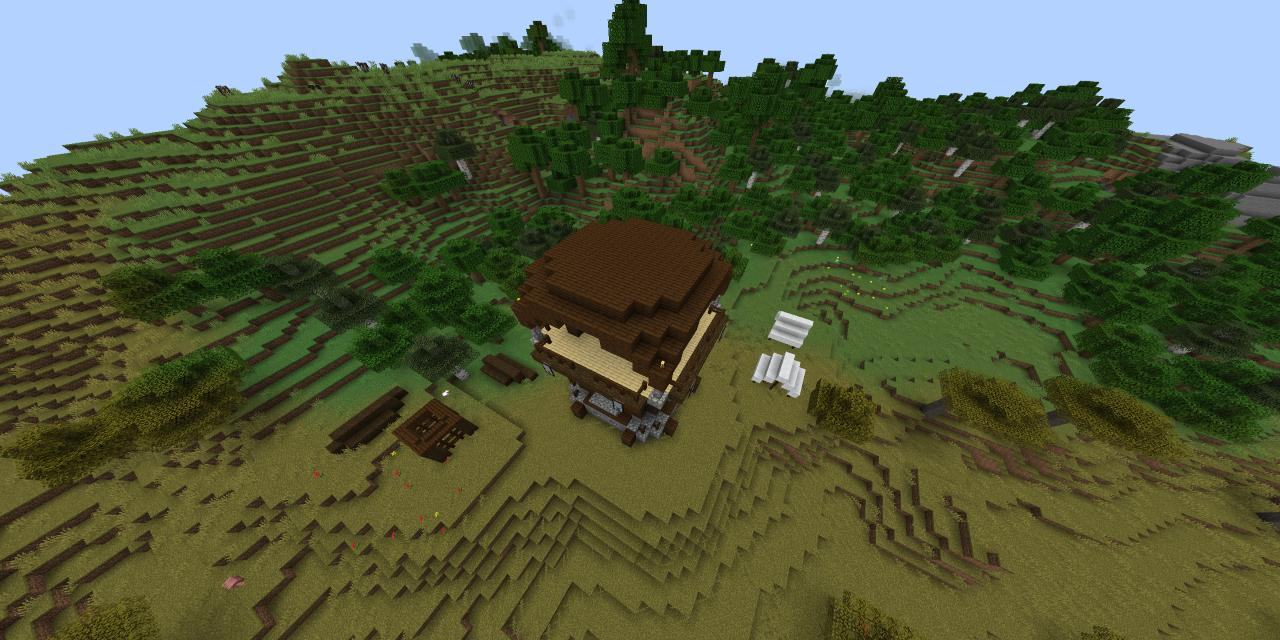pillager outpost: (502, 202, 755, 456)
